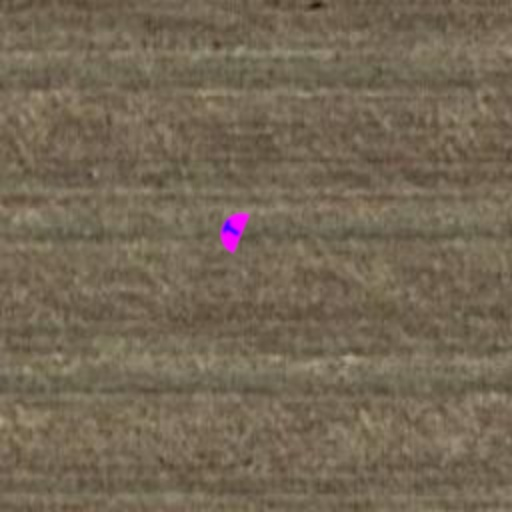semicircle: (204, 202, 260, 258)
